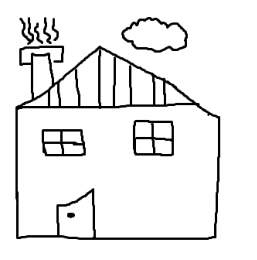closed_window: (133, 119, 175, 156), (42, 129, 85, 157)
clouds: (120, 15, 189, 55)
door: (51, 188, 101, 242)
roof: (16, 46, 207, 113)
smoking_chimney: (11, 12, 66, 99)
wall: (10, 100, 223, 245)
